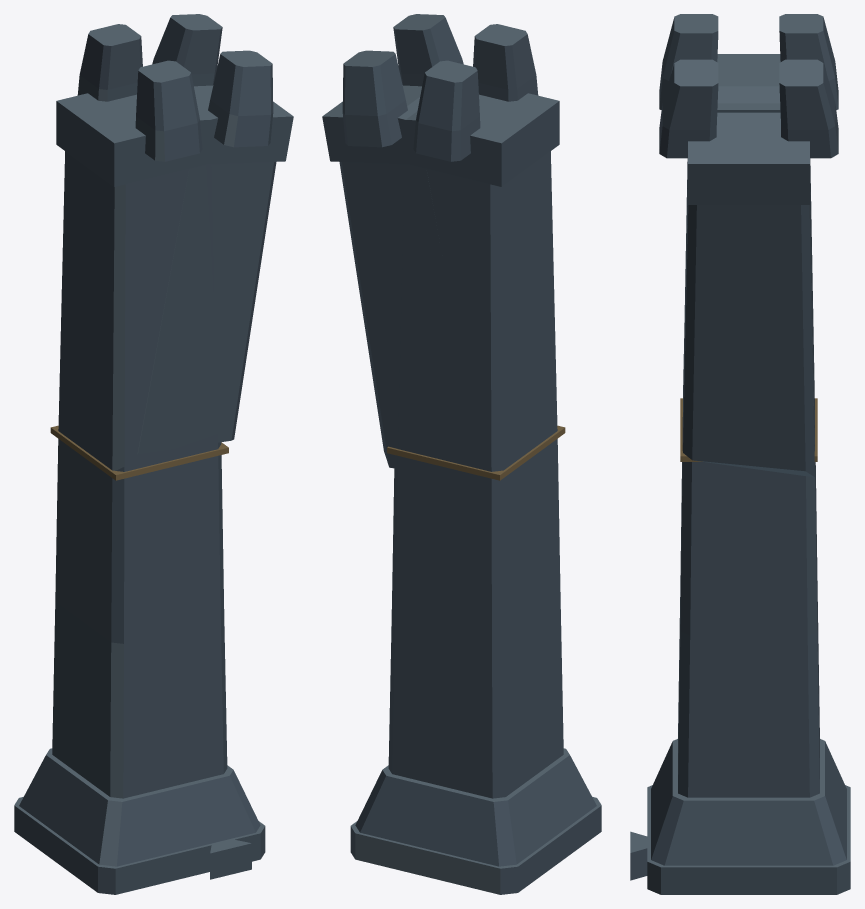
Rendered from i02_modular_bridge_pier.glb.
3 renders of one model, left to right at view 1: azimuth 30°, elevation 25°; view 2: azimuth 150°, elevation 25°; view 3: azimuth 270°, elevation 25°, orthographic. The views are drawn at different scales.
Visible parts, largest first — view 1: I02_Broken_Lower_Stump_Matching_Face, I02_Intact_Shaft_Upper_Repeatable_Module, I02_Broken_Upper_Shaft_Matching_Face, I02_Broken_Foot_Tapered_Shoulder, I02_Intact_Fork_Cradle_Neck, I02_Broken_Notched_Foot_Platform, I02_Intact_Fork_Arm_Left, I02_Broken_Upper_Fork_Arm_Left, I02_Intact_Shaft_Lower_Repeatable_Module, I02_Intact_Fork_Arm_Right, I02_Broken_Upper_Fork_Arm_Right, I02_Broken_Upper_Fork_Cradle_Neck (+3 smaller); view 2: I02_Intact_Shaft_Upper_Repeatable_Module, I02_Broken_Lower_Stump_Matching_Face, I02_Intact_Shaft_Lower_Repeatable_Module, I02_Broken_Foot_Tapered_Shoulder, I02_Broken_Upper_Shaft_Matching_Face, I02_Broken_Notched_Foot_Platform, I02_Intact_Fork_Cradle_Neck, I02_Intact_Fork_Arm_Right, I02_Broken_Upper_Fork_Arm_Right, I02_Intact_Fork_Arm_Left, I02_Broken_Upper_Fork_Arm_Left, I02_Broken_Upper_Fork_Cradle_Neck (+1 smaller); view 3: I02_Broken_Lower_Stump_Matching_Face, I02_Broken_Upper_Shaft_Matching_Face, I02_Broken_Foot_Tapered_Shoulder, I02_Broken_Upper_Fork_Cradle_Neck, I02_Broken_Notched_Foot_Platform, I02_Broken_Upper_Fork_Arm_Left, I02_Broken_Upper_Fork_Arm_Right, I02_Intact_Fork_Arm_Left, I02_Intact_Fork_Arm_Right, I02_Intact_Fork_Cradle_Neck, I02_Intact_Shaft_Lower_Repeatable_Module, I02_Broken_Matching_Loose_Foot_Fragment (+2 smaller).
Part boxes in pixels (left/top/right/bottom): I02_Broken_Lower_Stump_Matching_Face: left=52, top=434, right=227, bottom=798; I02_Intact_Shaft_Upper_Repeatable_Module: left=58, top=151, right=214, bottom=470; I02_Broken_Upper_Shaft_Matching_Face: left=137, top=162, right=276, bottom=453; I02_Broken_Foot_Tapered_Shoulder: left=19, top=748, right=260, bottom=866; I02_Intact_Fork_Cradle_Neck: left=56, top=93, right=223, bottom=186; I02_Broken_Notched_Foot_Platform: left=14, top=797, right=265, bottom=894; I02_Intact_Fork_Arm_Left: left=135, top=60, right=202, bottom=161; I02_Broken_Upper_Fork_Arm_Left: left=208, top=50, right=273, bottom=147; I02_Intact_Shaft_Lower_Repeatable_Module: left=55, top=439, right=107, bottom=600; I02_Intact_Fork_Arm_Right: left=77, top=24, right=142, bottom=101; I02_Broken_Upper_Fork_Arm_Right: left=152, top=14, right=222, bottom=86; I02_Broken_Upper_Fork_Cradle_Neck: left=179, top=85, right=293, bottom=165; I02_Intact_Shaft_Upper_Repeatable_Module: left=398, top=151, right=557, bottom=471; I02_Broken_Lower_Stump_Matching_Face: left=388, top=439, right=563, bottom=798; I02_Intact_Shaft_Lower_Repeatable_Module: left=391, top=442, right=552, bottom=643; I02_Broken_Foot_Tapered_Shoulder: left=355, top=748, right=596, bottom=866; I02_Broken_Upper_Shaft_Matching_Face: left=339, top=162, right=443, bottom=468; I02_Broken_Notched_Foot_Platform: left=350, top=797, right=601, bottom=894; I02_Intact_Fork_Cradle_Neck: left=393, top=93, right=559, bottom=186; I02_Intact_Fork_Arm_Right: left=413, top=60, right=480, bottom=161; I02_Broken_Upper_Fork_Arm_Right: left=342, top=50, right=407, bottom=147; I02_Intact_Fork_Arm_Left: left=473, top=24, right=538, bottom=101; I02_Broken_Upper_Fork_Arm_Left: left=393, top=14, right=463, bottom=86; I02_Broken_Upper_Fork_Cradle_Neck: left=322, top=85, right=436, bottom=165; I02_Broken_Lower_Stump_Matching_Face: left=678, top=417, right=819, bottom=797; I02_Broken_Upper_Shaft_Matching_Face: left=683, top=168, right=814, bottom=477; I02_Broken_Foot_Tapered_Shoulder: left=651, top=739, right=846, bottom=865; I02_Broken_Upper_Fork_Cradle_Neck: left=688, top=86, right=809, bottom=204; I02_Broken_Notched_Foot_Platform: left=647, top=785, right=850, bottom=894; I02_Broken_Upper_Fork_Arm_Left: left=659, top=59, right=718, bottom=158; I02_Broken_Upper_Fork_Arm_Right: left=779, top=59, right=838, bottom=158; I02_Intact_Fork_Arm_Left: left=659, top=14, right=718, bottom=109; I02_Intact_Fork_Arm_Right: left=779, top=14, right=838, bottom=109; I02_Intact_Fork_Cradle_Neck: left=717, top=54, right=780, bottom=112; I02_Intact_Shaft_Lower_Repeatable_Module: left=807, top=462, right=817, bottom=635; I02_Broken_Matching_Loose_Foot_Fragment: left=630, top=831, right=650, bottom=880.
Size of the model in its own units: 1.5 by 5.4 by 1.3.
